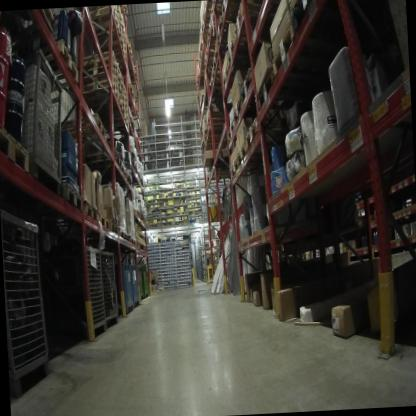pallet: (266, 26, 350, 76), (255, 71, 343, 115), (229, 137, 298, 177), (29, 36, 83, 85), (55, 105, 111, 147), (228, 1, 285, 42), (0, 115, 35, 177), (212, 16, 257, 53), (244, 118, 293, 148), (81, 80, 121, 113), (82, 6, 120, 37), (79, 59, 120, 87), (78, 70, 119, 96), (78, 47, 120, 72), (15, 10, 57, 35), (231, 93, 267, 121), (57, 177, 85, 212), (226, 38, 258, 68), (237, 66, 258, 105), (206, 62, 233, 90), (210, 45, 236, 71), (223, 118, 246, 145), (77, 197, 100, 224), (205, 169, 234, 188), (208, 107, 229, 132), (90, 210, 111, 232), (198, 128, 226, 142), (103, 216, 119, 238), (219, 0, 237, 17), (115, 224, 129, 244), (239, 0, 283, 6), (125, 232, 137, 246)
stillage: (0, 199, 56, 404), (9, 41, 63, 189), (55, 229, 108, 343), (98, 236, 123, 339)
